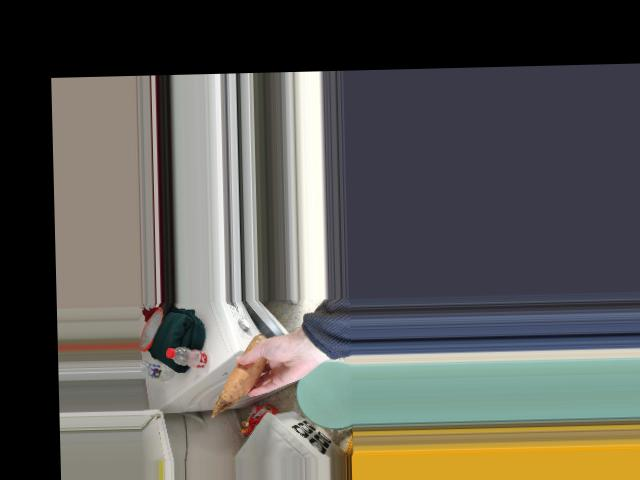sweet_potato: (230, 337, 276, 389)
